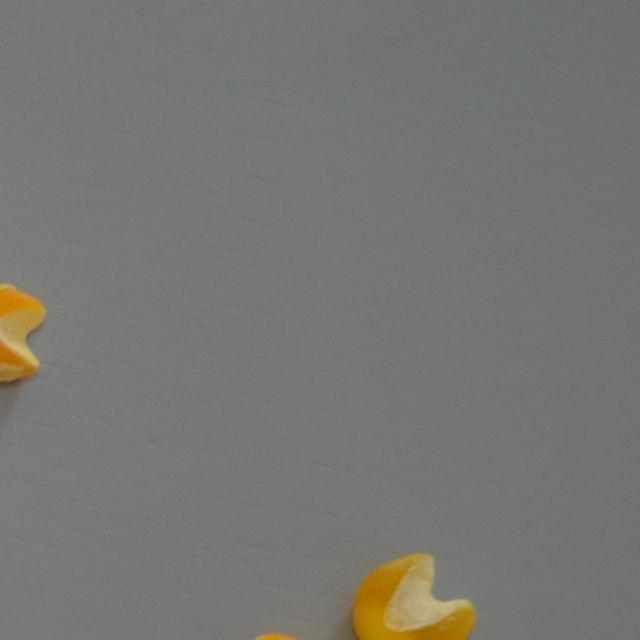no_canjicado: (352, 552, 476, 640)
pelicula: (0, 282, 46, 384)
